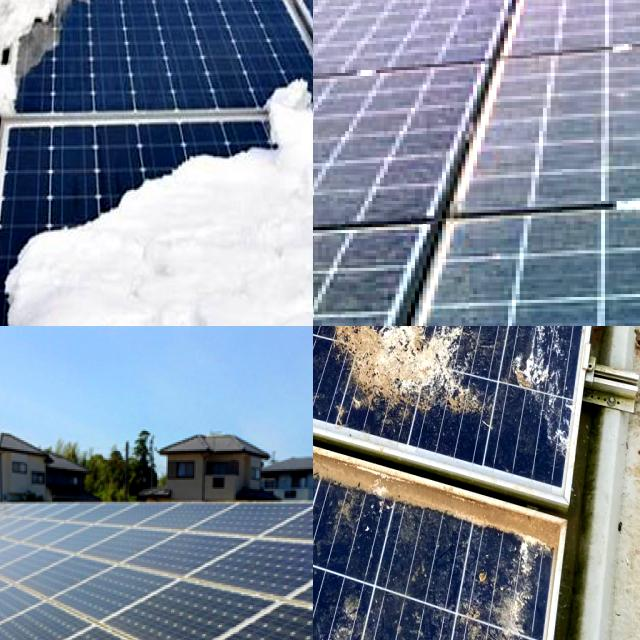bird: (325, 326, 479, 412), (509, 326, 576, 455), (313, 482, 432, 554), (480, 510, 544, 640), (419, 326, 538, 377), (313, 561, 385, 625), (313, 610, 462, 640), (324, 326, 412, 366), (313, 326, 356, 361)
crack: (98, 560, 279, 640), (209, 513, 313, 625)
dust: (313, 81, 456, 230), (452, 215, 640, 326), (313, 0, 478, 77), (535, 78, 640, 184), (313, 238, 398, 326)
panel: (115, 107, 262, 220), (0, 189, 88, 326), (2, 0, 63, 131), (264, 82, 313, 204), (0, 202, 41, 326), (178, 0, 250, 63), (0, 113, 46, 198), (200, 0, 313, 29), (51, 0, 182, 22), (43, 0, 157, 23), (0, 0, 73, 20)
